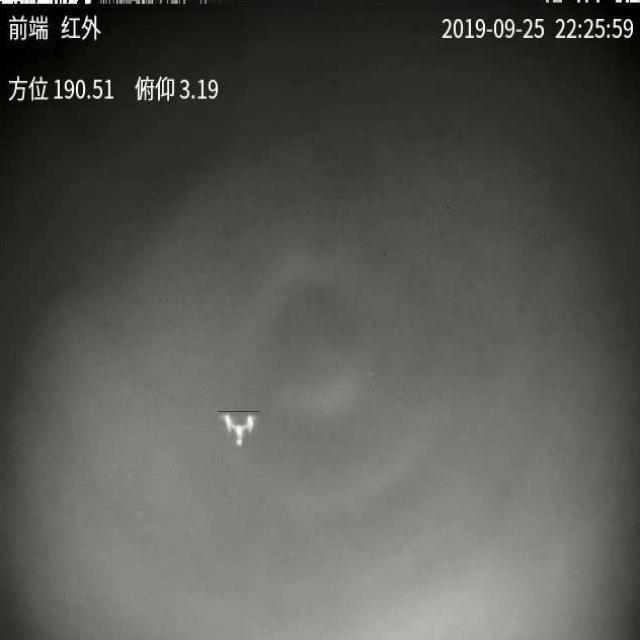drone: (218, 411, 260, 448)
